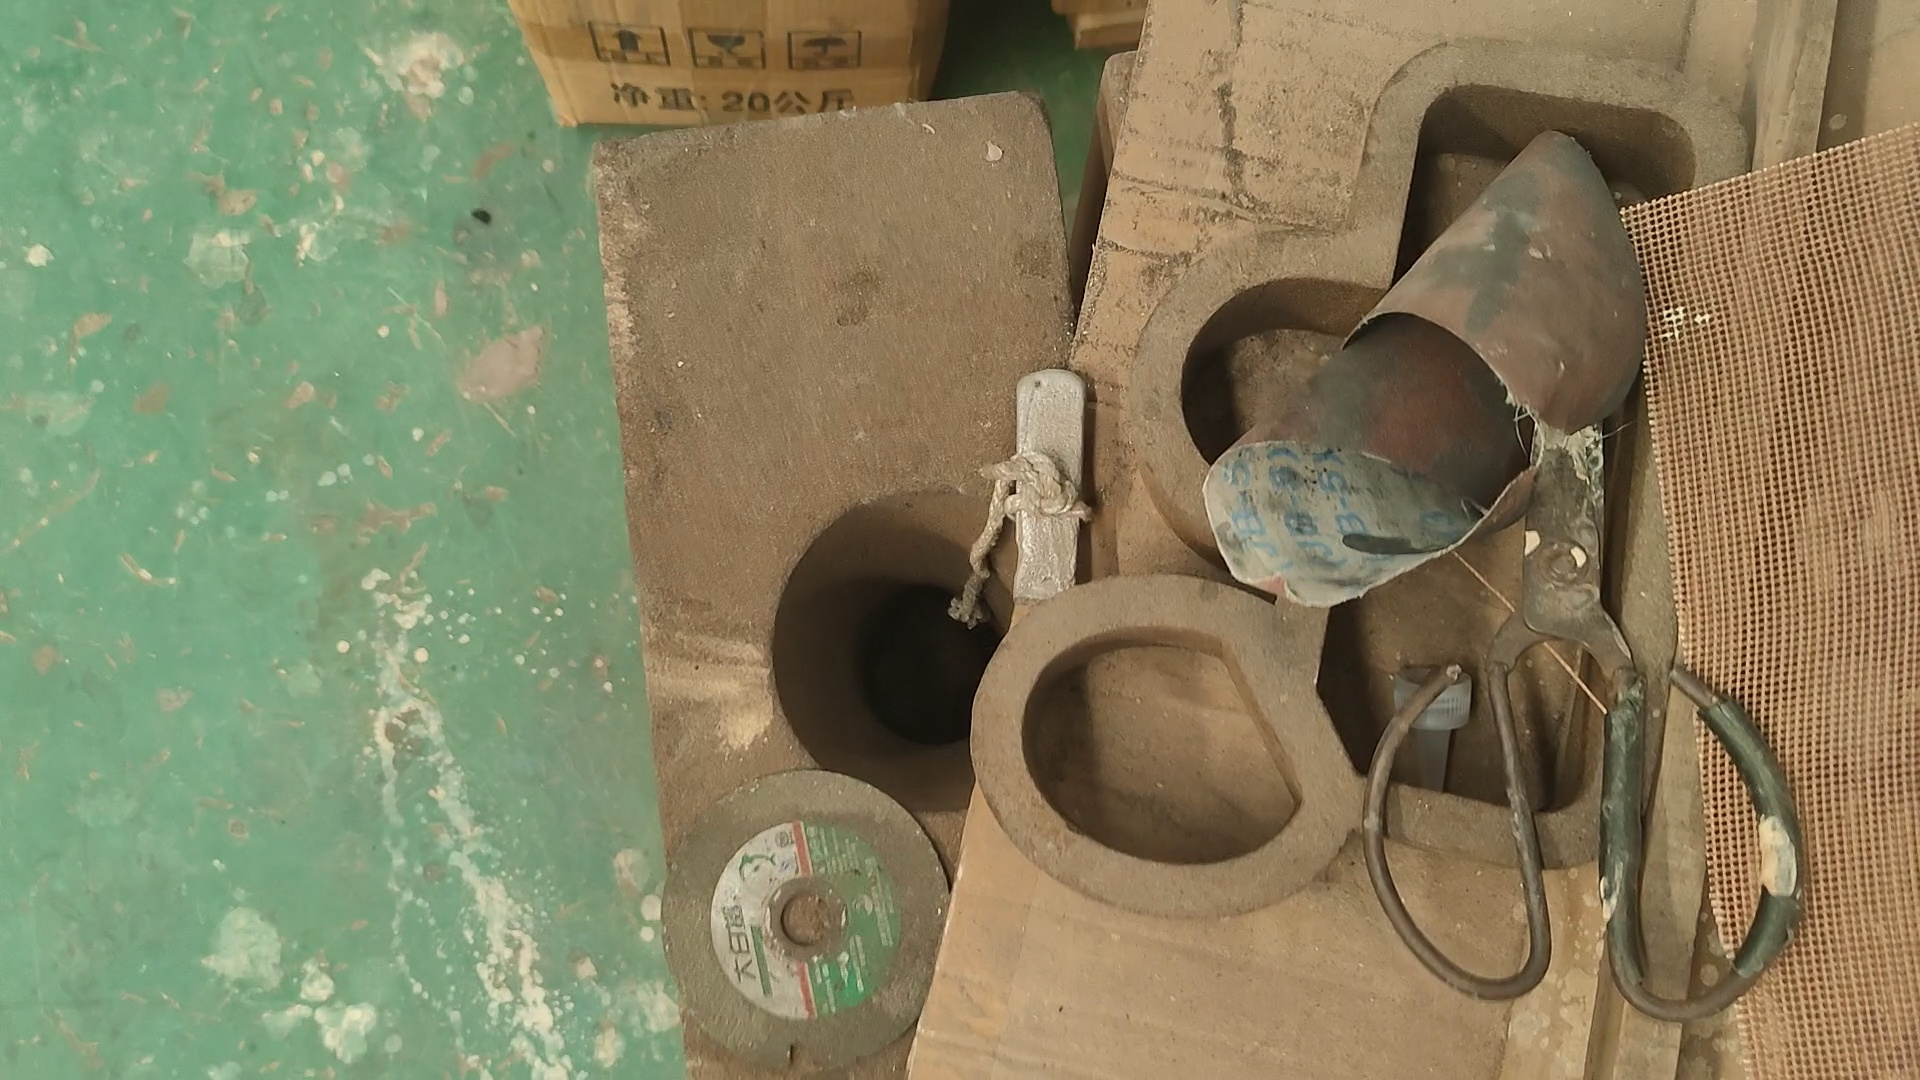pouring hole: (771, 487, 1081, 818)
